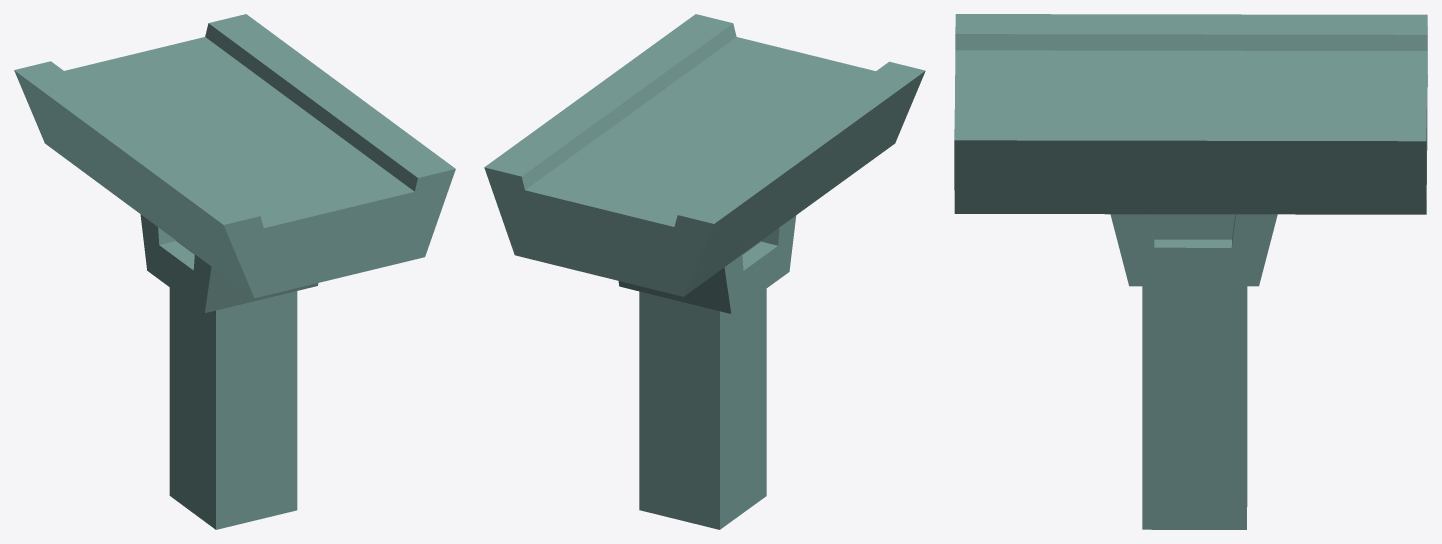
File: street straight small.fbx
3 renders of one model, left to right at view 1: azimuth 30°, elevation 25°; view 2: azimuth 150°, elevation 25°; view 3: azimuth 270°, elevation 25°, orthographic. The views are drawn at different scales.
Parts seen in each view (by area): view 1: street straight small; view 2: street straight small; view 3: street straight small.
Part boxes in pixels (x1=…): street straight small: x1=14, y1=14, x2=455, y2=529; street straight small: x1=484, y1=14, x2=925, y2=529; street straight small: x1=954, y1=14, x2=1427, y2=529.
Size of the model in its own units: 1439 by 2268 by 2262.
